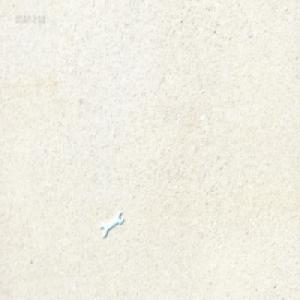Wrench: (100, 209, 123, 237)
